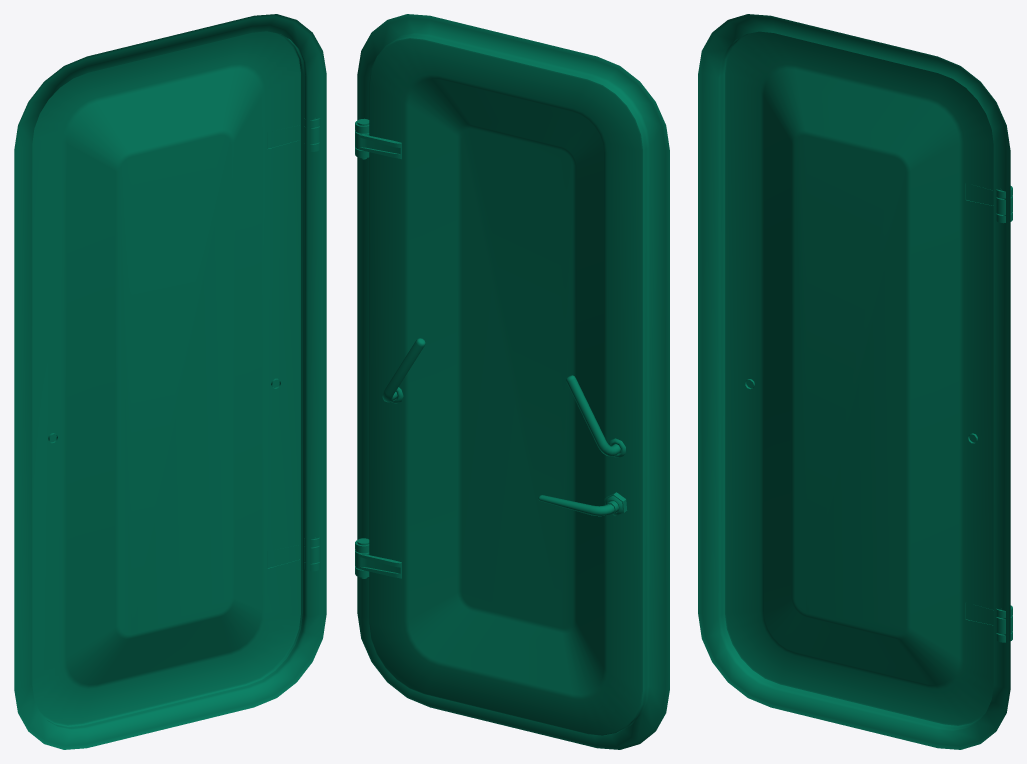
The model's file is Engine8.fbx.
3 views of the same model, side by side, from view 1: azimuth 30°, elevation 25°; view 2: azimuth 150°, elevation 25°; view 3: azimuth 330°, elevation 25° (orthographic).
Visible parts, largest first — view 1: Stuff.003; view 2: Stuff.003; view 3: Stuff.003.
Part boxes in pixels (x1=…): Stuff.003: x1=14, y1=14, x2=326, y2=749; Stuff.003: x1=355, y1=14, x2=669, y2=749; Stuff.003: x1=698, y1=14, x2=1012, y2=749.
Bounding box in the file's own units: 90.37 × 191 × 13.94.
